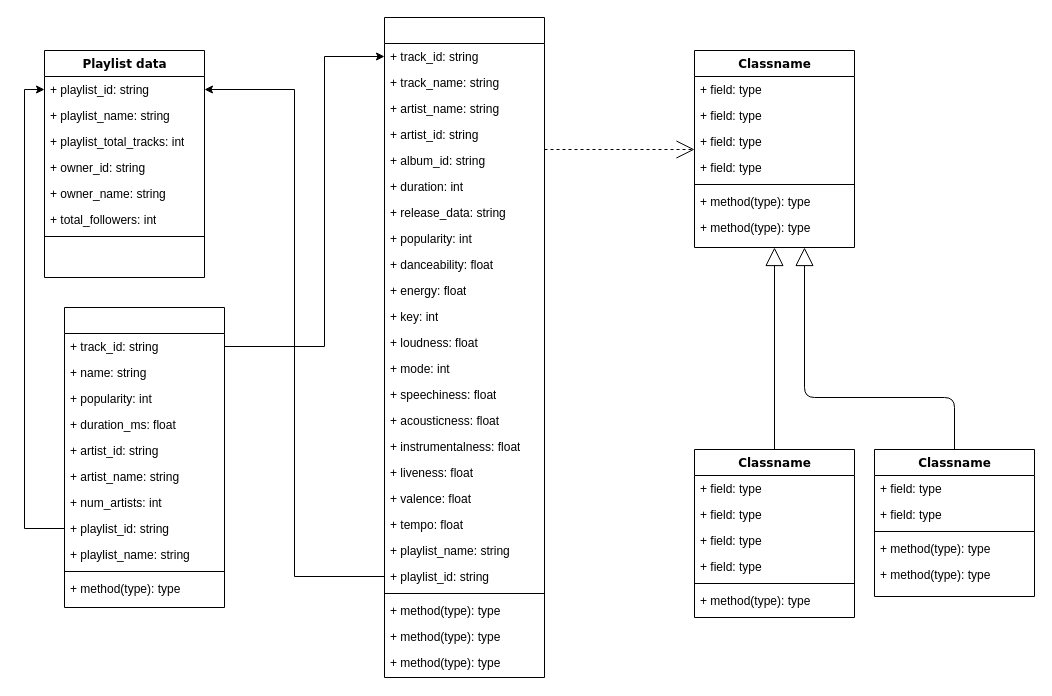
The diagram is 1052 pixels wide and 696 high, and some of its shapes have lost their labels. The shapes that lost their labels are listed below. From the top down, each one's box as (x1, y1, x2, y2) in pixels, then its label:
(384, 16, 544, 678): Song Data
(64, 306, 224, 608): Song_playlist
